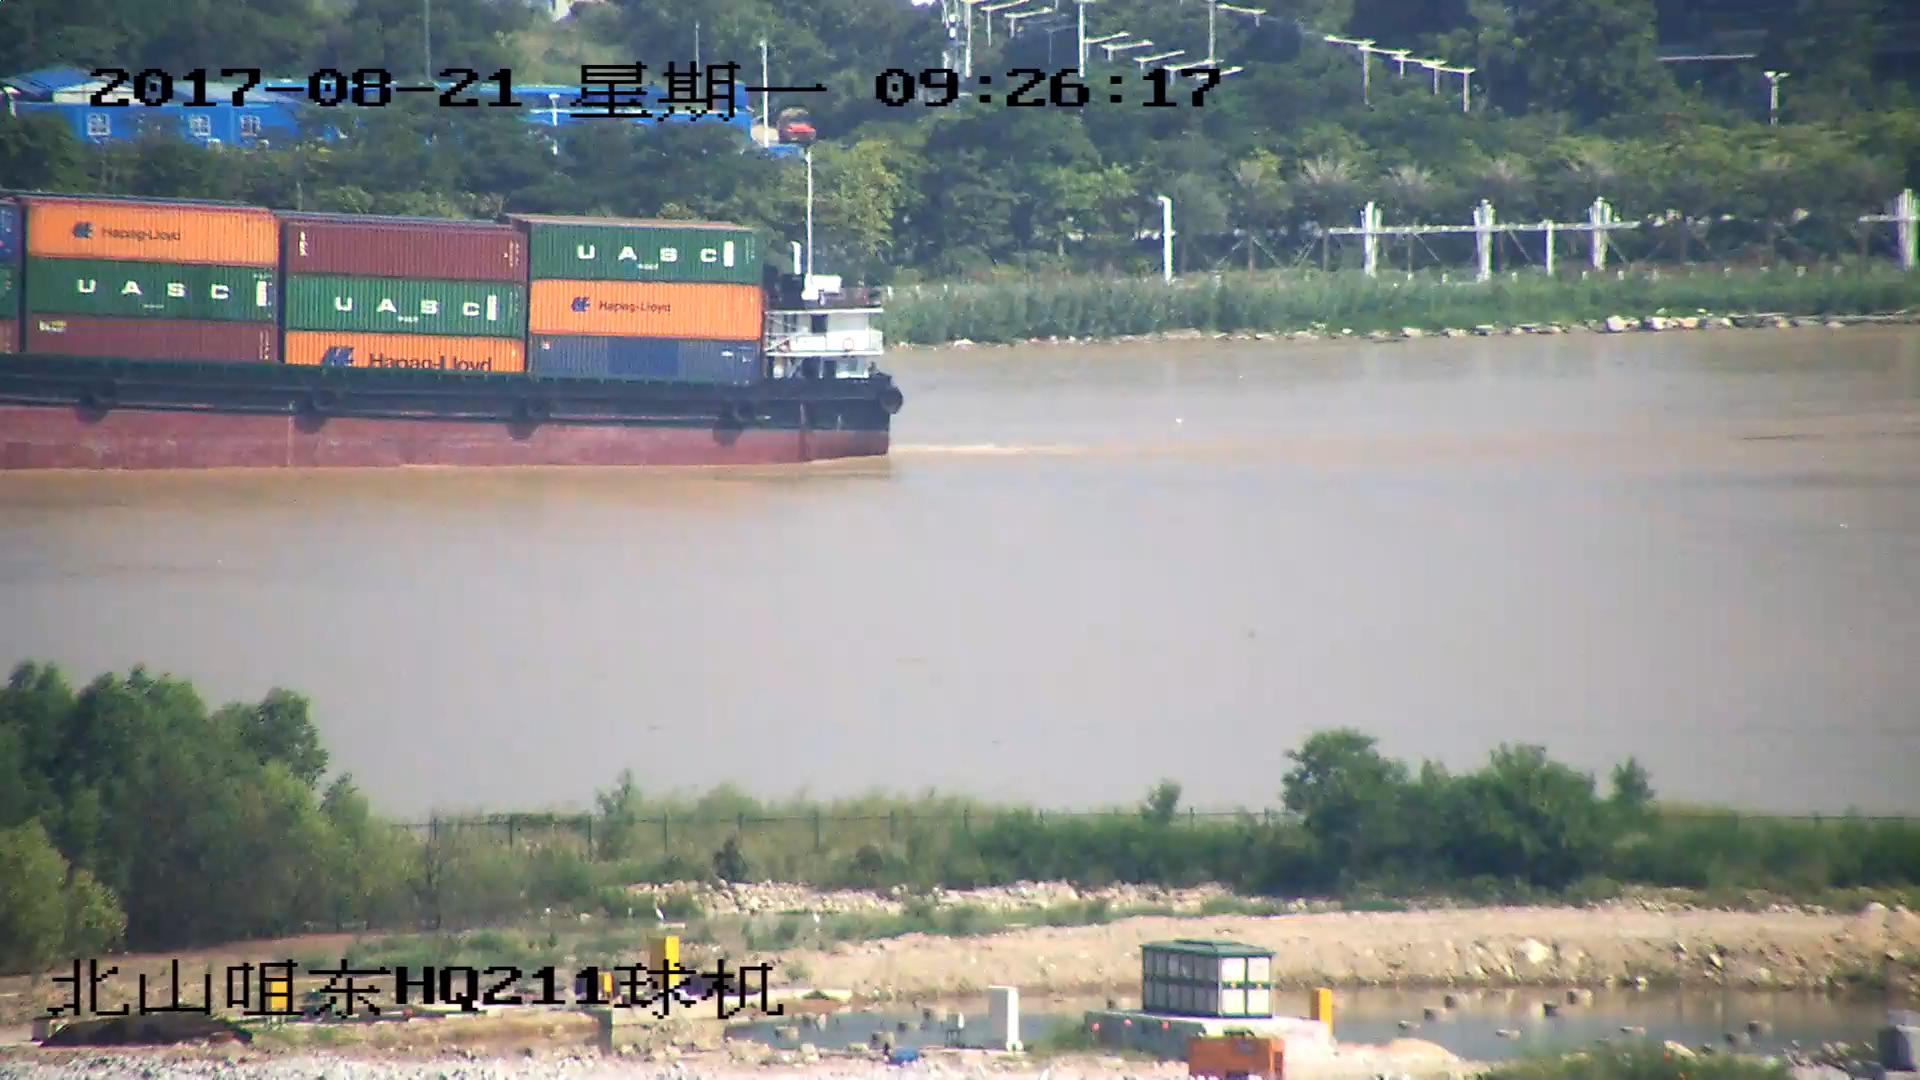container ship: (1, 154, 905, 467)
